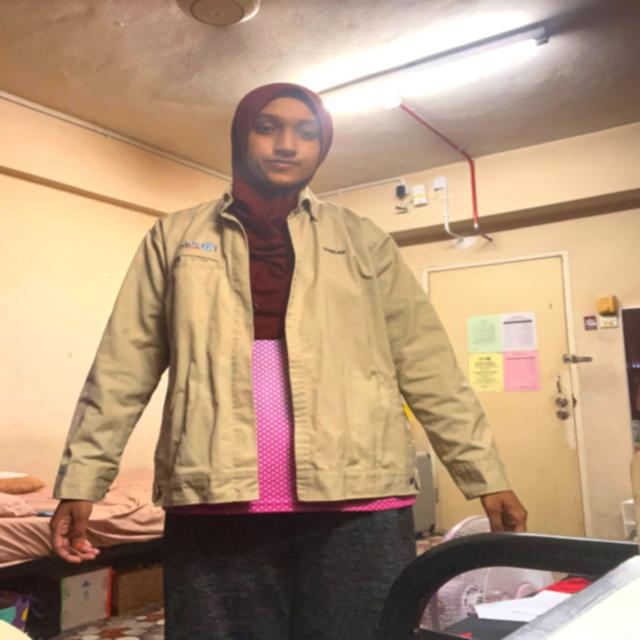person_with_labcoat: (50, 83, 527, 640)
